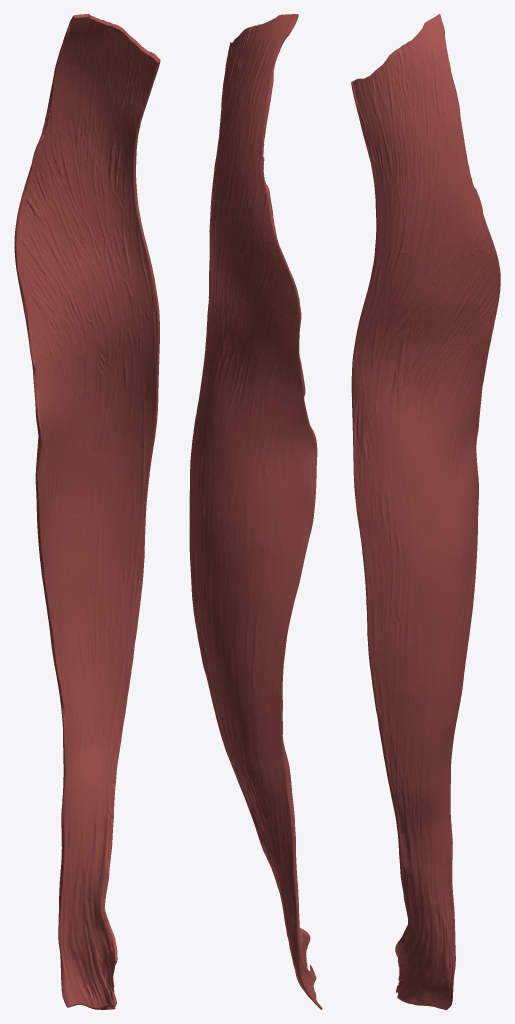
The model's file is FMA58777.glb.
3 renders of one model, left to right at view 1: azimuth 90°, elevation 25°; view 2: azimuth 210°, elevation 25°; view 3: azimuth 270°, elevation 25°, orthographic. The views are drawn at different scales.
Visible parts, largest first — view 1: FMA58777; view 2: FMA58777; view 3: FMA58777.
Boxes of the visible parts, x1=… form: FMA58777: x1=14, y1=14, x2=160, y2=1009; FMA58777: x1=189, y1=14, x2=322, y2=1009; FMA58777: x1=351, y1=14, x2=500, y2=1009.
Bounding box in the file's own units: 0.0691 × 0.5859 × 0.079.
